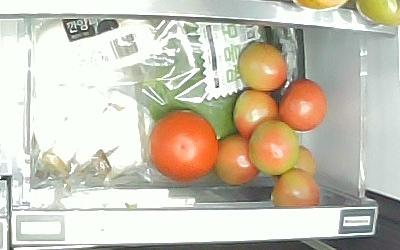tomato: (148, 110, 219, 184), (249, 120, 302, 176), (237, 39, 289, 91), (280, 79, 330, 132), (231, 90, 280, 140), (214, 132, 259, 186), (271, 169, 320, 208), (282, 146, 318, 175)
